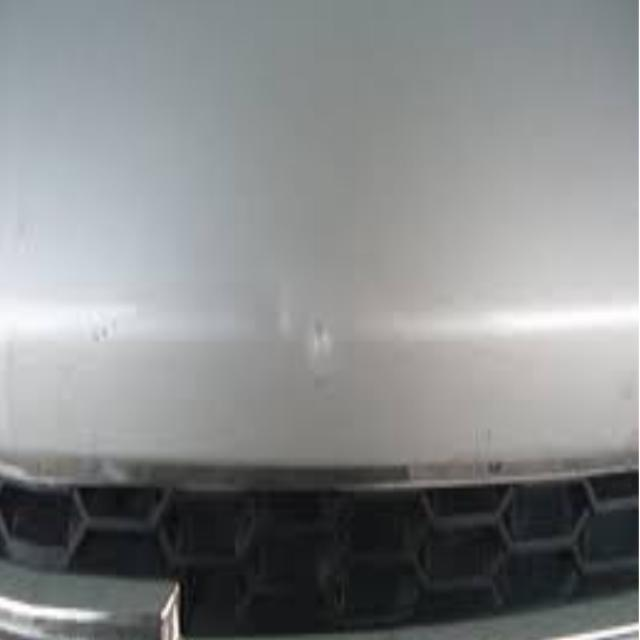dents: (299, 306, 344, 391)
